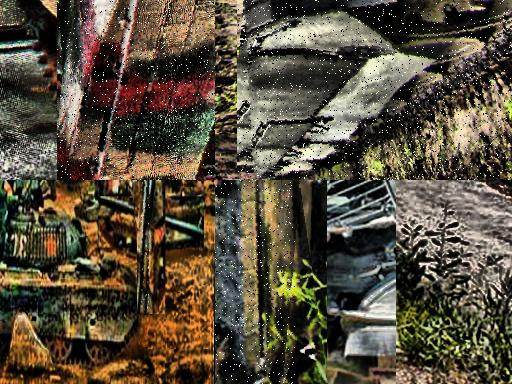tanks: (248, 1, 512, 181), (61, 1, 216, 181), (1, 203, 145, 365), (216, 181, 296, 384), (76, 181, 216, 229), (101, 205, 203, 258), (142, 181, 150, 308)
